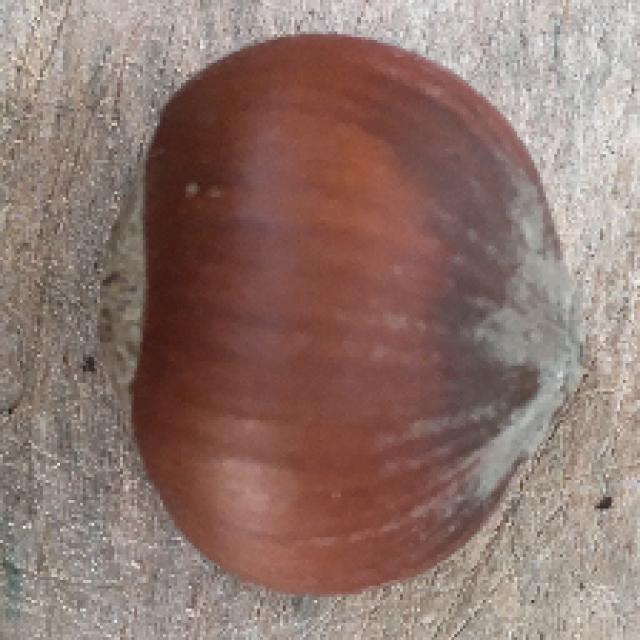damagedHazelnut: (87, 24, 594, 596)
